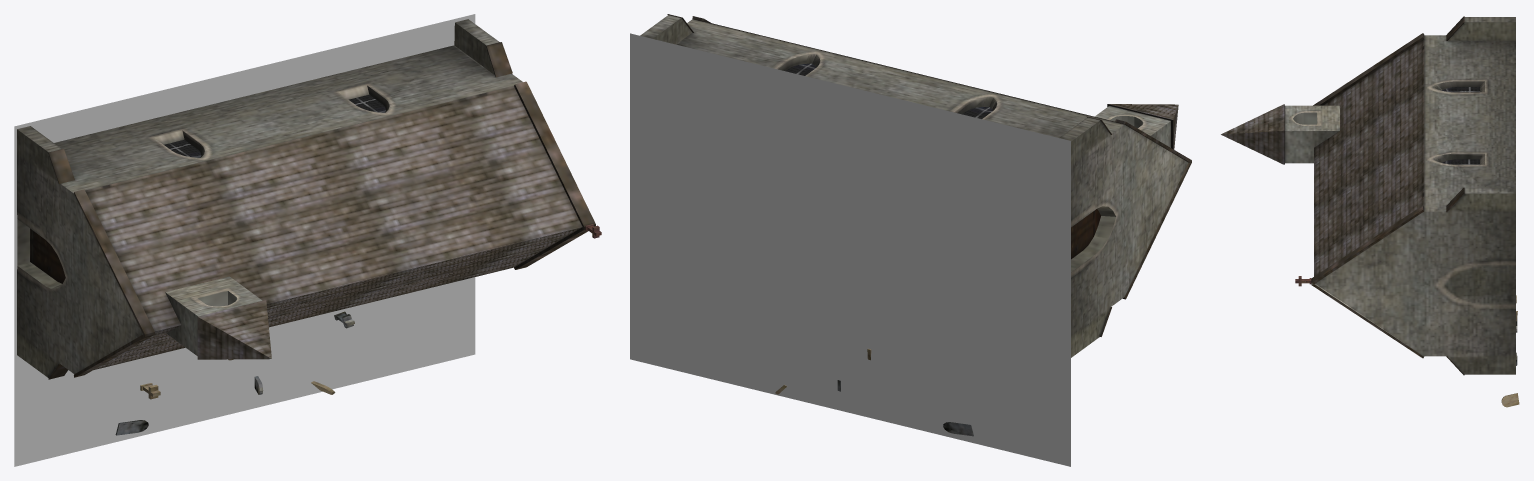
Rendered from chapel01_wtf.obj.
3 renders of one model, left to right at view 1: azimuth 30°, elevation 25°; view 2: azimuth 150°, elevation 25°; view 3: azimuth 270°, elevation 25°, orthographic. The views are drawn at different scales.
Parts seen in each view (by area): view 1: group2, group3, group4; view 2: group3, group2; view 3: group2, group4.
Part boxes in pixels (<box>): group2: <box>17,19,595,379</box>; group3: <box>14,14,475,466</box>; group4: <box>115,224,601,435</box>; group3: <box>630,33,1070,466</box>; group2: <box>640,14,1191,357</box>; group2: <box>1221,16,1515,375</box>; group4: <box>1295,276,1519,407</box>.
Bounding box in the file's own units: 660 × 466 × 463.
